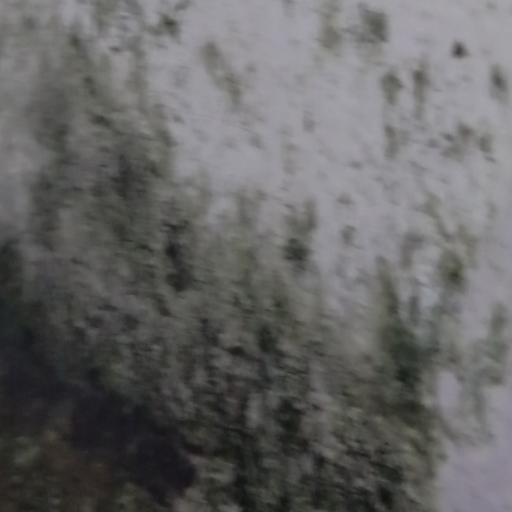algae: (1, 119, 439, 512)
